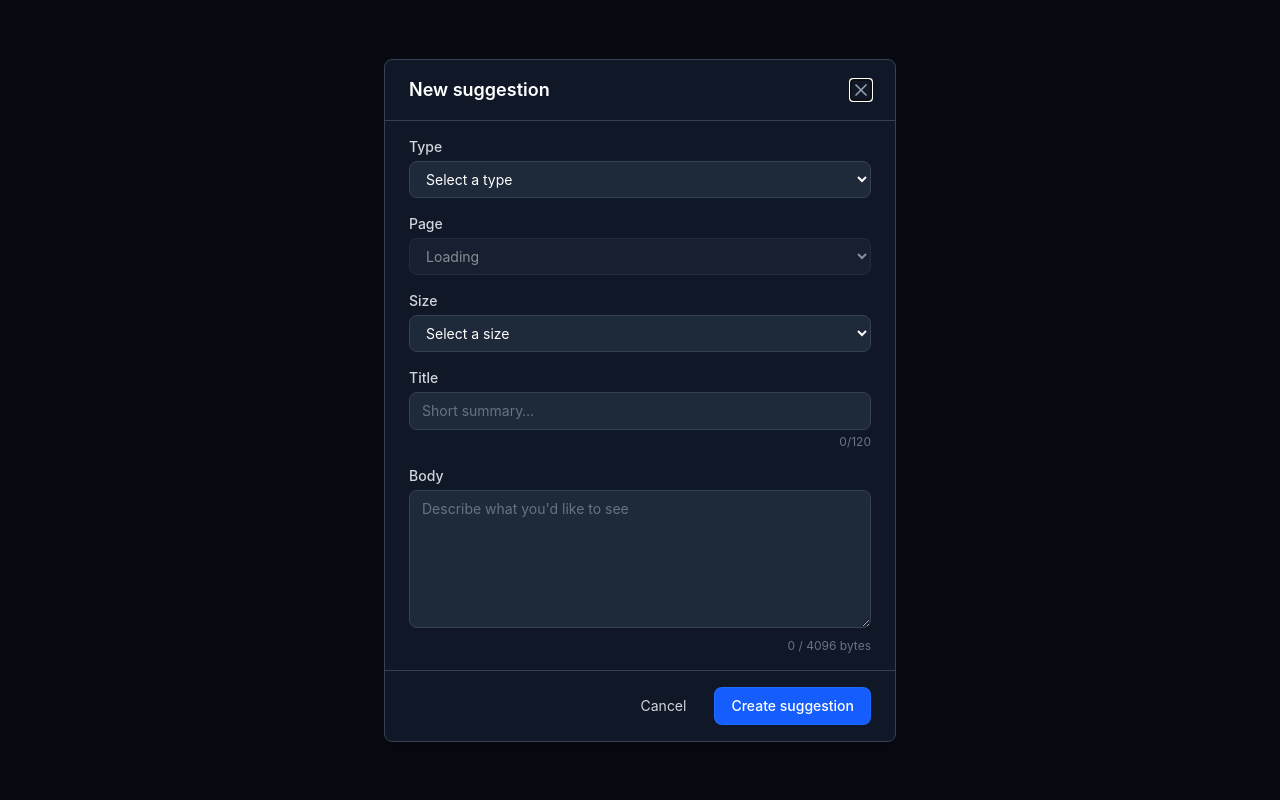
Test: NewSuggestionForm › shows inline validation errors when fields are missing
Check: the dropdown labelled "Page" is shown, box top-left (409, 238), bottom-right (871, 274)
Step 1. Click the button "Create suggestion" → point(793, 706), box top-left (714, 686), bottom-right (871, 724)
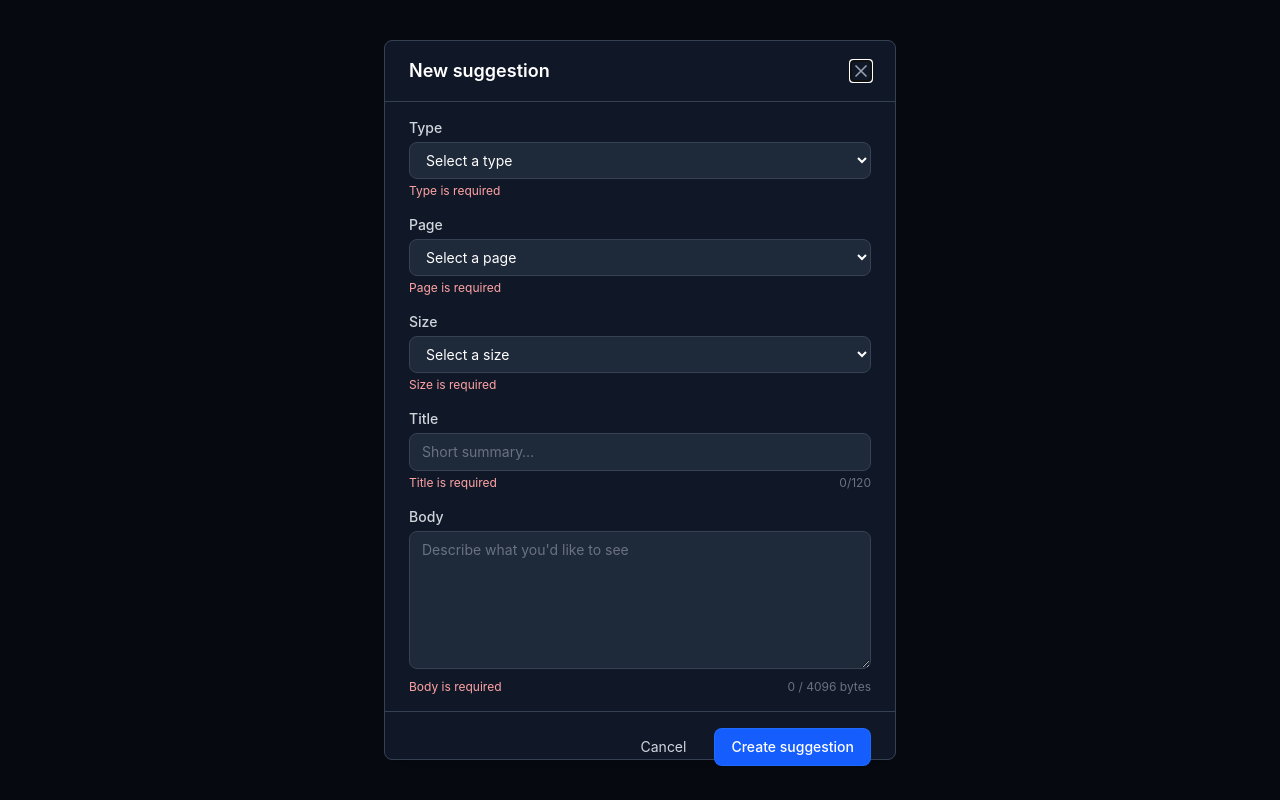
Check: the text "Type is required" is shown, box top-left (409, 183), bottom-right (500, 198)
Check: the text "Size is required" is shown, box top-left (409, 377), bottom-right (496, 392)
Check: the text "Page is required" is shown, box top-left (409, 280), bottom-right (501, 295)
